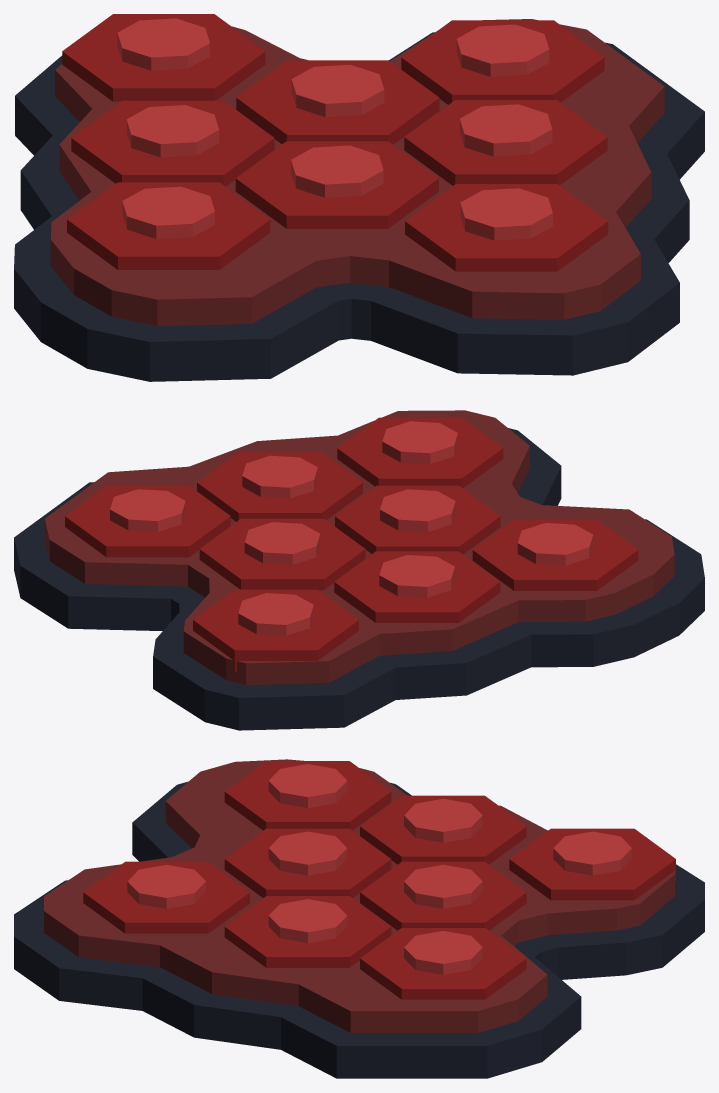
The model's file is piranha_scales.fbx.
3 renders of one model, top to bottom at view 1: azimuth 30°, elevation 25°; view 2: azimuth 150°, elevation 25°; view 3: azimuth 270°, elevation 25°, orthographic. The views are drawn at different scales.
Visible parts, largest first — view 1: piranha_scales; view 2: piranha_scales; view 3: piranha_scales.
Boxes of the visible parts, x1,y1,x2,y2 form: piranha_scales: (14,14,704,381); piranha_scales: (14,410,704,730); piranha_scales: (14,759,704,1078).
Bounding box in the file's own units: 1.09 × 0.14 × 1.15.
Materials: 1 (1 with a texture image).
